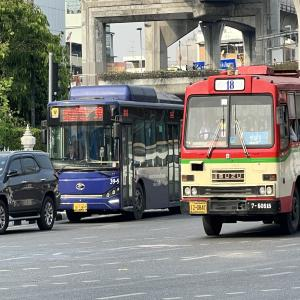BMTA-bus: (181, 67, 300, 238)
Bus Line Number: (218, 79, 244, 91), (92, 103, 105, 122)
Bus Side Number: (248, 201, 275, 211), (108, 176, 121, 184)
Destination Sign: (59, 107, 92, 123), (242, 132, 270, 145)
TSB-Bus: (42, 85, 184, 222)
